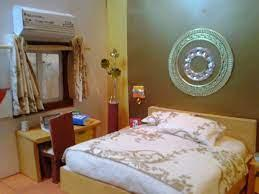bed: (60, 105, 259, 194)
chair: (38, 109, 76, 184)
light: (130, 82, 148, 105)
table: (14, 114, 102, 184), (245, 153, 259, 194)
